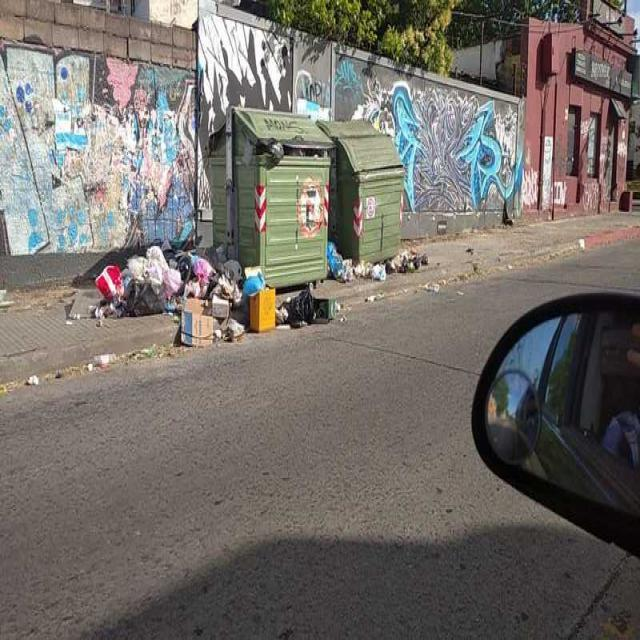garbage: (98, 248, 340, 338), (342, 252, 434, 278), (255, 136, 330, 164), (84, 347, 120, 370), (26, 366, 44, 384)
